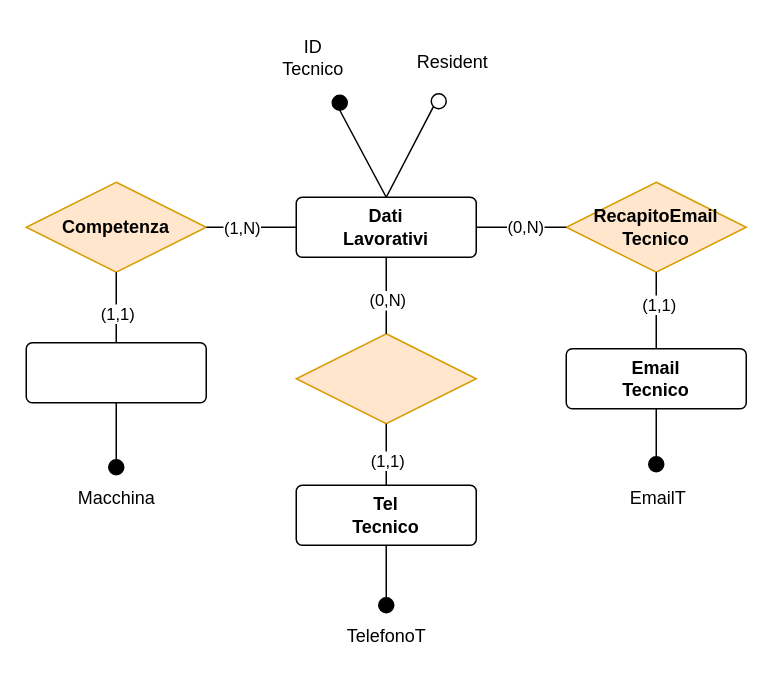
Image size: 773x681. Some labels were removed from this diagram. The shapes that lost their labels are listed below. From the top down, each one's box as (x1, y1, x2, y2) in pixels, then its label:
(25, 341, 206, 403): Competenza Tecnico
(295, 332, 476, 424): RecapitoTel Tecnico
